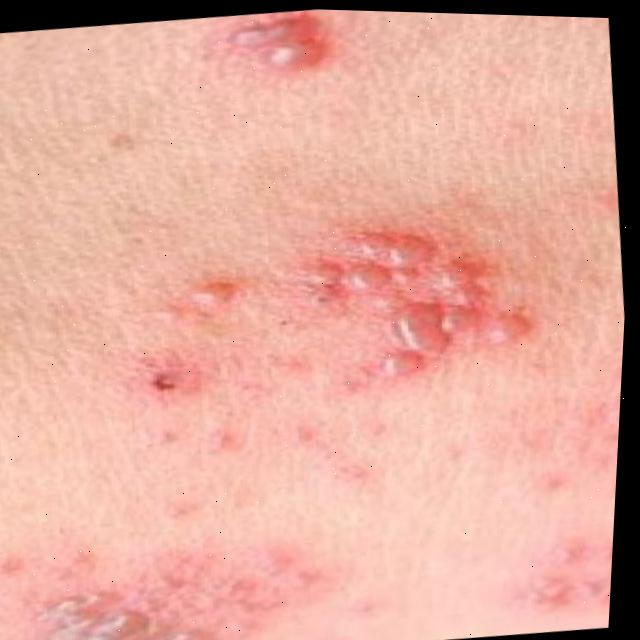Shingles: (291, 207, 535, 394), (24, 567, 220, 640), (223, 7, 329, 78)
